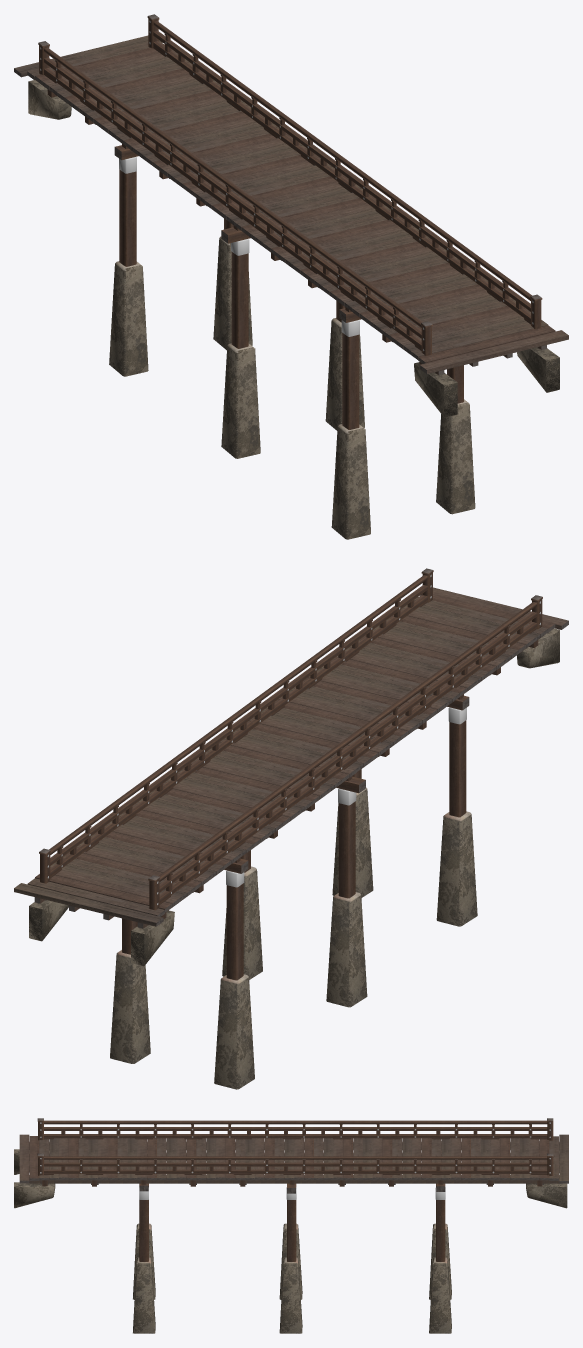
Rendered from jov_bridge_wood01.fbx.
The picture shows the model from 3 angles, top to bottom: view 1: azimuth 30°, elevation 25°; view 2: azimuth 150°, elevation 25°; view 3: azimuth 270°, elevation 25°; orthographic projection. The views are drawn at different scales.
Parts seen in each view (by area): view 1: jov_bridge_wood01; view 2: jov_bridge_wood01; view 3: jov_bridge_wood01.
Boxes of the visible parts, <box> form: jov_bridge_wood01: <box>14,14,568,539</box>; jov_bridge_wood01: <box>14,568,568,1089</box>; jov_bridge_wood01: <box>14,1118,568,1333</box>.
Size of the model in its own units: 619 by 1099 by 3142.
